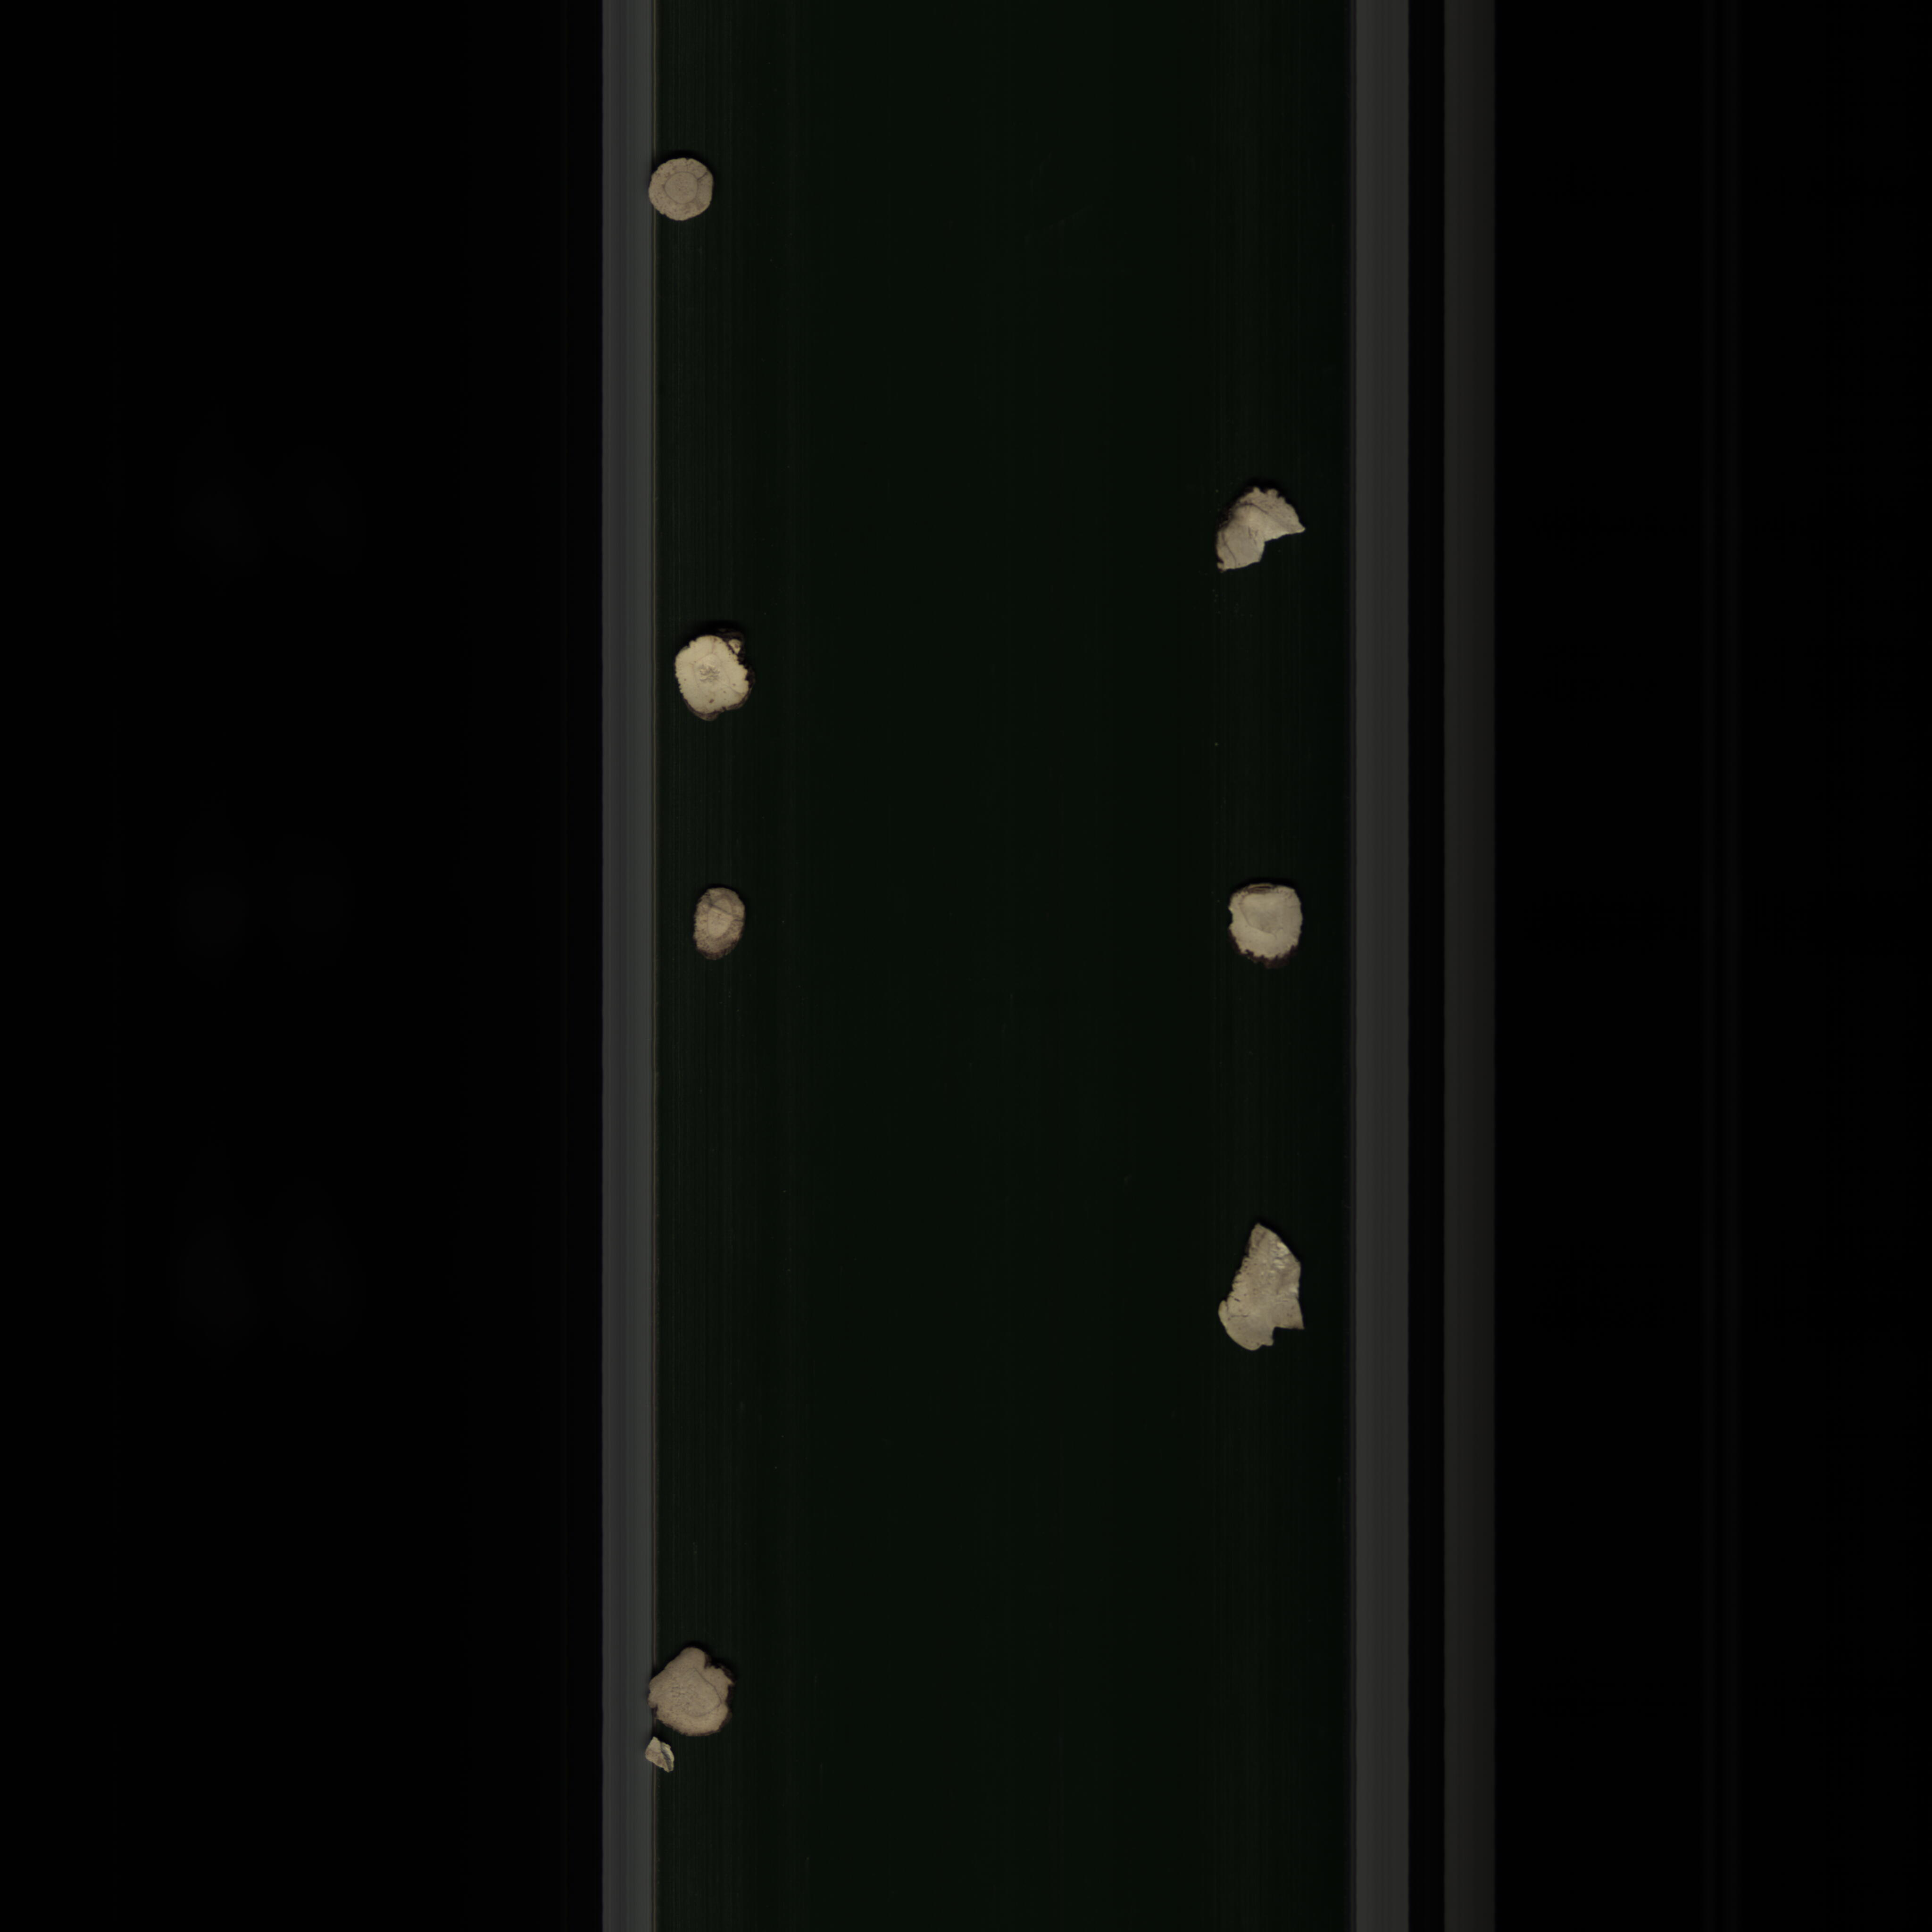debris: (1208, 1219, 1315, 1359), (1212, 478, 1309, 575)
distortion: (648, 1644, 747, 1736), (1226, 874, 1309, 970)
moldy: (683, 881, 761, 975)
